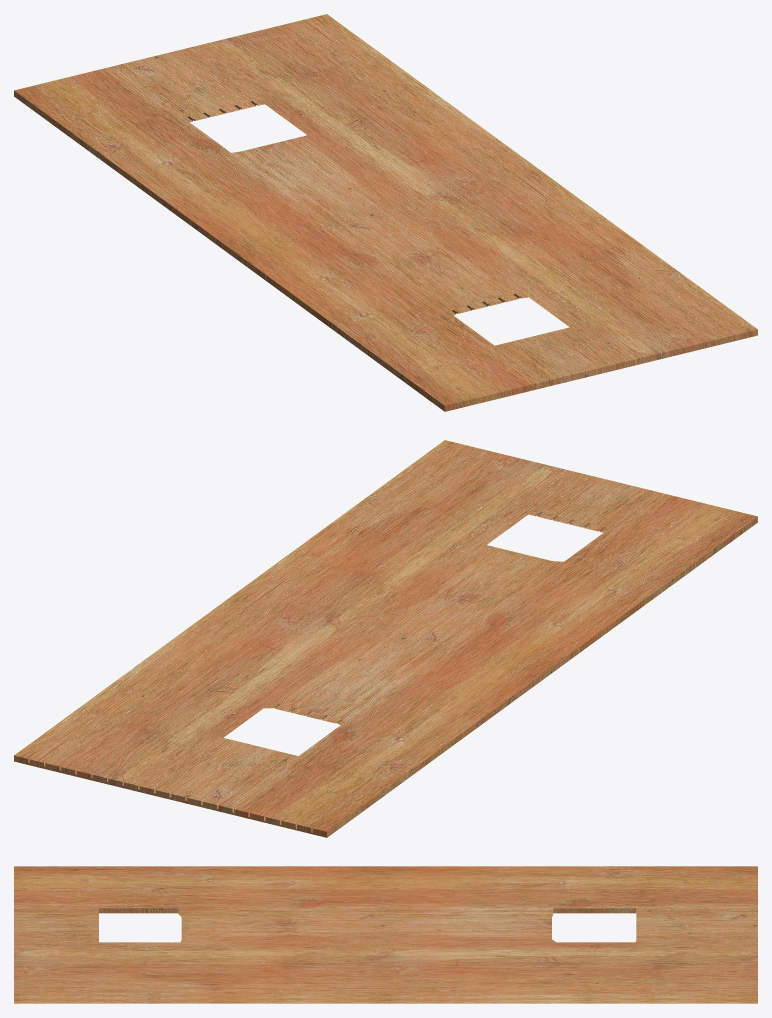
File: ceiling.glb
3 renders of one model, top to bottom at view 1: azimuth 30°, elevation 25°; view 2: azimuth 150°, elevation 25°; view 3: azimuth 270°, elevation 25°, orthographic. The views are drawn at different scales.
Parts seen in each view (by area): view 1: Cube.122; view 2: Cube.122; view 3: Cube.122.
Boxes of the visible parts, <box> form: Cube.122: <box>14,14,757,411</box>; Cube.122: <box>14,440,757,837</box>; Cube.122: <box>14,866,757,1003</box>.
Bounding box in the file's own units: 1.39 × 0.0255 × 3.32.
Materials: 1 (1 with a texture image).
